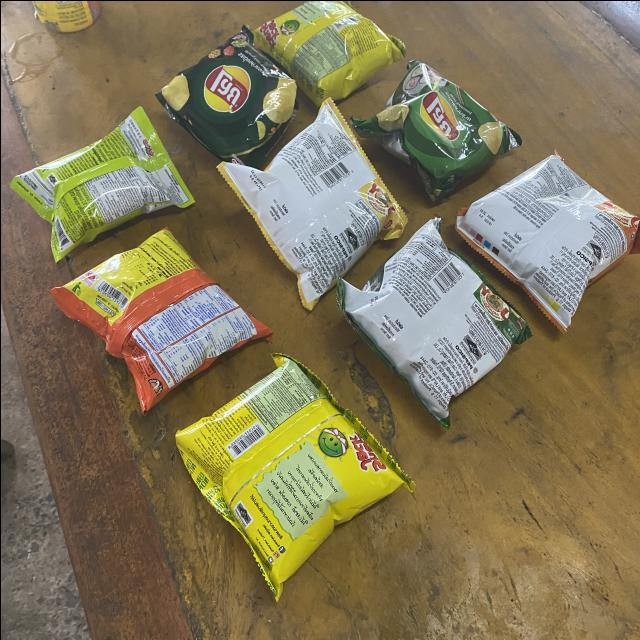plastik: (174, 352, 414, 599), (335, 217, 531, 427), (50, 228, 272, 411), (217, 98, 406, 308), (455, 152, 640, 331), (9, 106, 193, 260), (349, 59, 521, 200), (155, 25, 295, 157), (252, 0, 405, 105)
